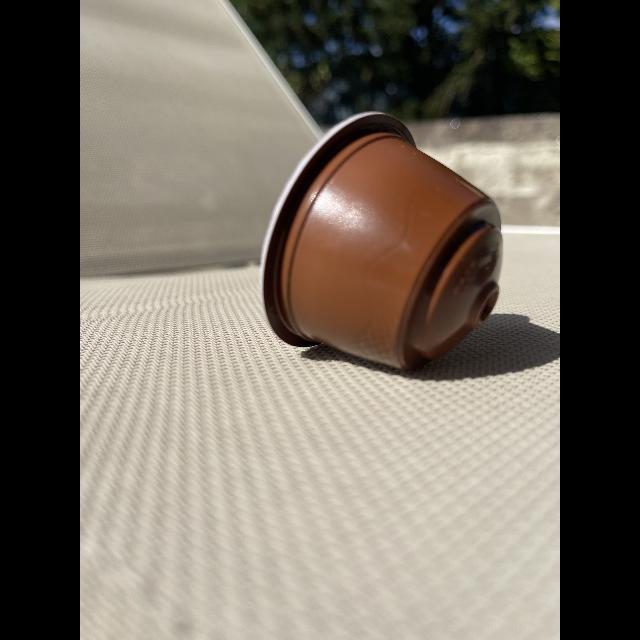intact_capsule: (254, 106, 520, 388)
